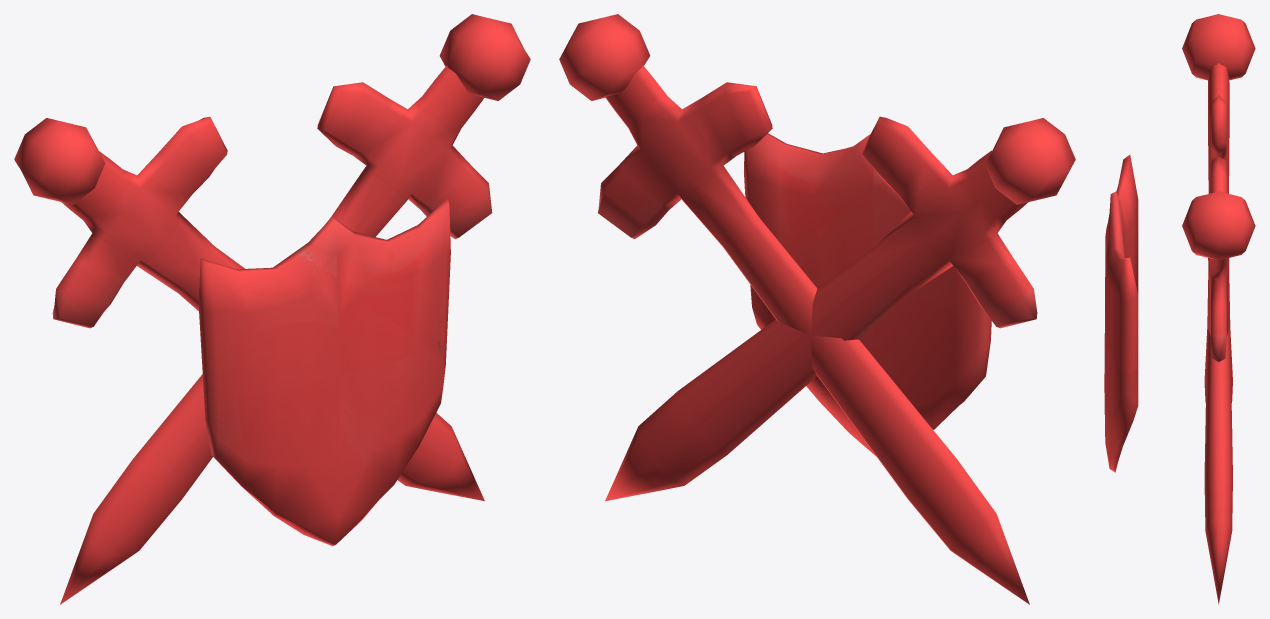
3 renders of one model, left to right at view 1: azimuth 30°, elevation 25°; view 2: azimuth 150°, elevation 25°; view 3: azimuth 270°, elevation 25°, orthographic. The views are drawn at different scales.
Visible parts, largest first — view 1: Cube, Cube.001; view 2: Cube, Cube.001; view 3: Cube, Cube.001.
Part boxes in pixels (x1,y1,x2,y2): Cube: (14, 14, 530, 604); Cube.001: (199, 198, 450, 546); Cube: (559, 14, 1075, 604); Cube.001: (744, 133, 991, 455); Cube: (1182, 14, 1255, 604); Cube.001: (1104, 154, 1138, 472).
Size of the model in its own units: 4.33 by 3.99 by 1.32.
1 material, 1 textured.
